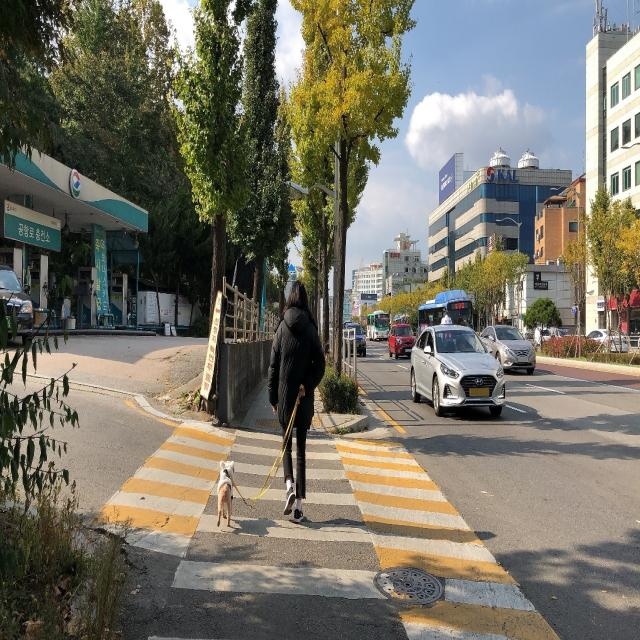횡단보도: (146, 425, 397, 640)
